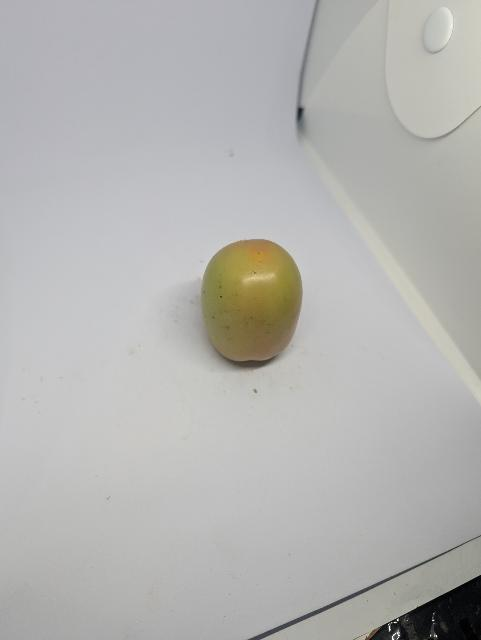breaker: (197, 234, 306, 367)
